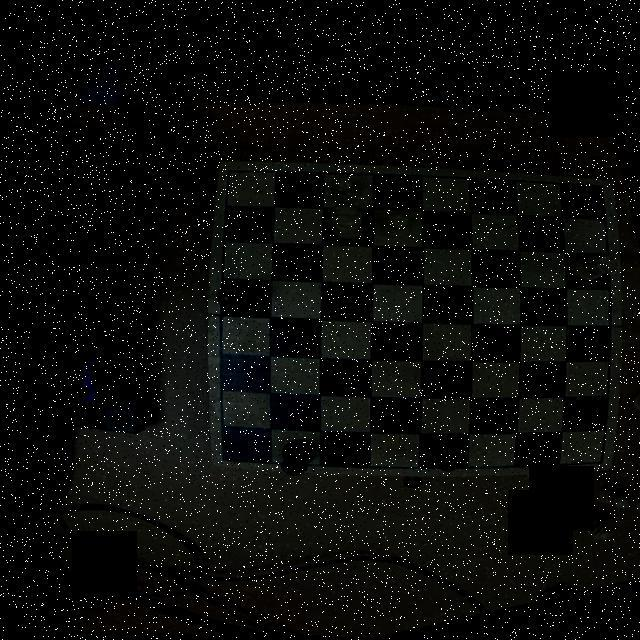chess-table-corners: (206, 440, 241, 470), (212, 157, 245, 188), (580, 173, 616, 200), (584, 444, 614, 472)
